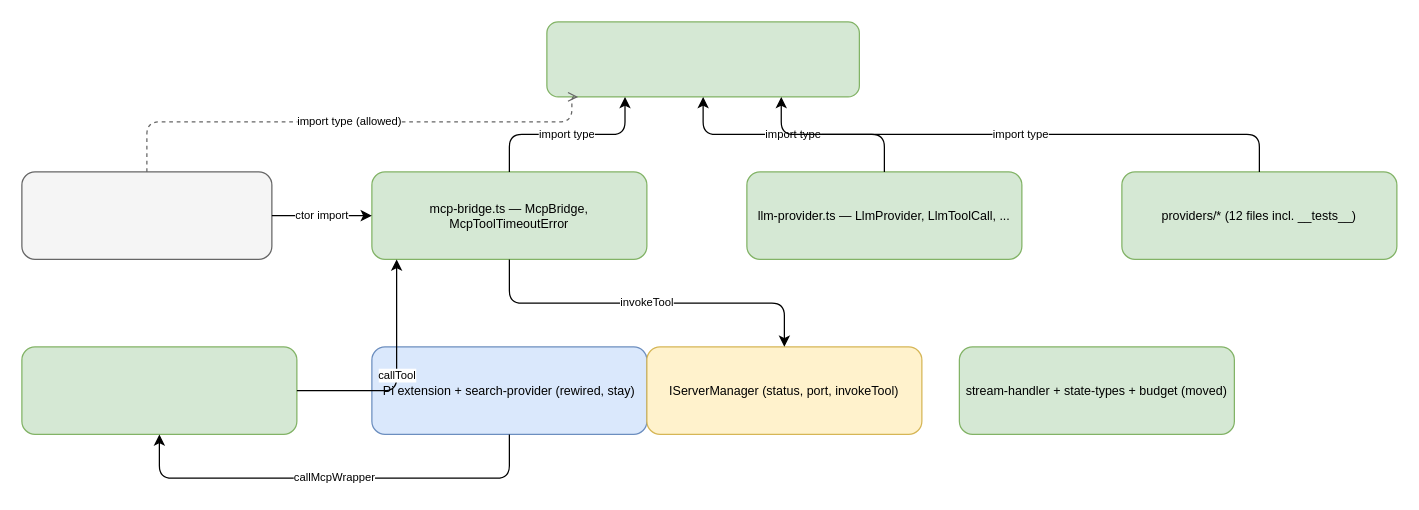
The diagram is 1419 pixels wide and 510 high, and some of its shapes have lost their labels. Each missing label, with the centre of its shape:
mcp-bridge-caller.ts NEW — McpBridgeCaller : McpCaller: (x=159, y=390)
mcp-types.ts NEW — McpToolDefinition (single owner): (x=702, y=59)
tool-registry.ts STAYS (legacy) — imports type from kernel: (x=146, y=215)
